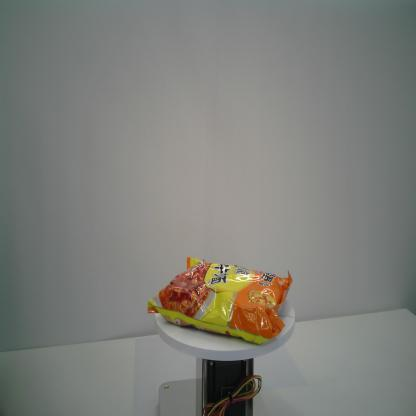Instant Noodles: (146, 254, 294, 346)
